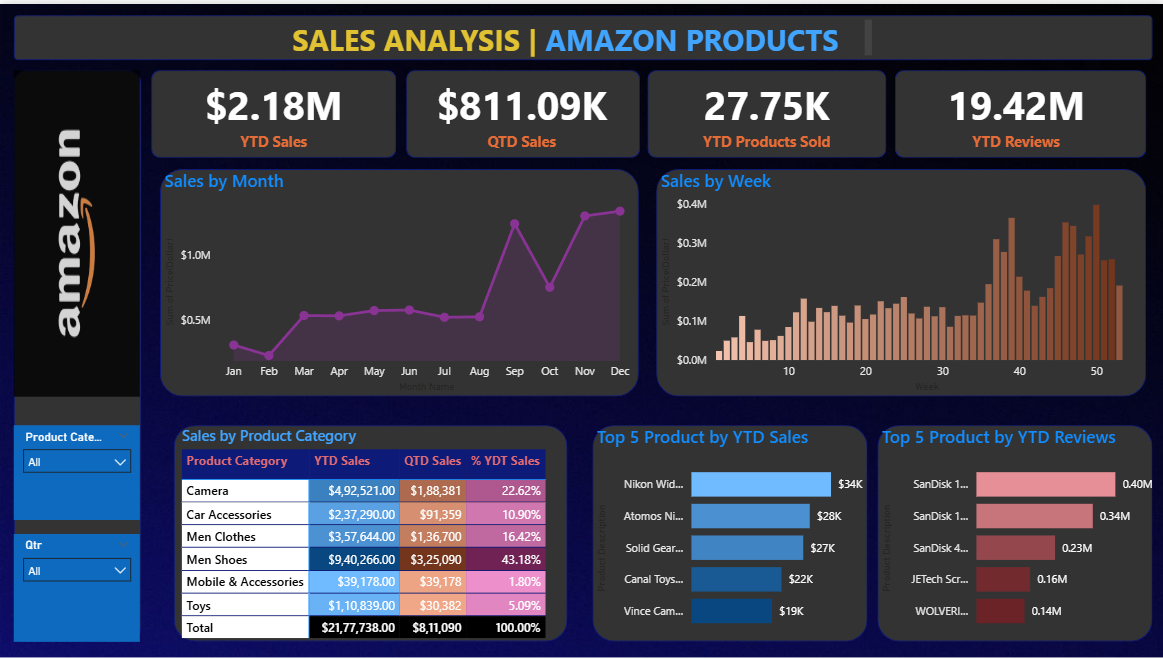

This screenshot's page, from the dashboard's own definition file:
{"tool":"powerbi","page":{"name":"Page 1","canvas":[1280,720],"ordinal":0},"visuals":[{"type":"shape","box":[15.1,72.7,140,627.1],"z":0},{"type":"shape","box":[15.1,12.3,1250.1,49.4],"z":1000},{"type":"textbox","box":[315.6,12.3,646.3,50.8],"z":2000},{"type":"shape","box":[166,72.7,269,96.1],"z":3000},{"type":"shape","box":[446,72.7,256.6,96.1],"z":4000},{"type":"card","fields":{"Values":["Amazon_Data.YDT Sales"]},"box":[166,72.7,269,96.1],"z":5000},{"type":"shape","box":[175.6,181.1,525.6,249.7],"z":6000},{"type":"card","fields":{"Values":["Amazon_Data.QTD Sales"]},"box":[444.6,72.7,256.6,96.1],"z":7000},{"type":"shape","box":[710.8,72.7,262.1,96.1],"z":8000},{"type":"shape","box":[982.5,72.7,275.8,96.1],"z":9000},{"type":"card","fields":{"Values":["Amazon_Data.YTD Products Sold"]},"box":[710.8,72.7,262.1,96.1],"z":10000},{"type":"card","fields":{"Values":["Amazon_Data.YDT Reviews"]},"box":[972.9,72.7,285.4,96.1],"z":11000},{"type":"shape","box":[190.7,462.4,432.2,237.4],"z":12000},{"type":"areaChart","title":"Sales by Month ","fields":{"Category":["Calender Table.Month Name"],"Y":["Sum(Amazon_Data.Price(Dollar))"]},"box":[175.6,181.1,525.6,249.7],"z":13000},{"type":"shape","box":[720.4,181.1,537.9,249.7],"z":14000},{"type":"columnChart","title":"Sales by Week","fields":{"Category":["Calender Table.Week"],"Y":["Sum(Amazon_Data.Price(Dollar))"]},"box":[720.4,181.1,537.9,249.7],"z":15000},{"type":"pivotTable","title":"Sales by Product Category","fields":{"Rows":["Amazon_Data.Product Category"],"Values":["Amazon_Data.YDT Sales1","Amazon_Data.QTD Sales","Amazon_Data.YDT Sales"]},"box":[194.9,462.4,428.1,248.4],"z":16000},{"type":"shape","box":[650.4,462.4,301.9,237.4],"z":17000},{"type":"shape","box":[963.3,462.4,301.9,237.4],"z":18000},{"type":"clusteredBarChart","title":"Top 5 Product by YTD Sales","fields":{"Category":["Amazon_Data.Product Description"],"Y":["Amazon_Data.YDT Sales"]},"box":[650.4,462.4,312.9,237.4],"z":19000},{"type":"clusteredBarChart","title":"Top 5 Product by YTD Reviews","fields":{"Category":["Amazon_Data.Product Description"],"Y":["Amazon_Data.YDT Reviews"]},"box":[963.3,462.4,312.9,237.4],"z":20000},{"type":"slicer","fields":{"Values":["Amazon_Data.Product Category"]},"box":[15.1,462.4,138.6,104.3],"z":21000},{"type":"slicer","fields":{"Values":["Calender Table.Qtr"]},"box":[15.1,581.8,138.6,118],"z":22000},{"type":"image","box":[15.1,72.7,138.6,358.1],"z":23000}]}

Visuals, with their boxes in screenshot pixels (x1, y1, x2, y2), scaled from the page's 1280x720 canvas onto the 1163x659 screenshot:
shape: region(14, 67, 141, 641)
shape: region(14, 11, 1150, 56)
textbox: region(287, 11, 874, 58)
shape: region(151, 67, 395, 154)
shape: region(405, 67, 638, 154)
card - Amazon_Data.YDT Sales: region(151, 67, 395, 154)
shape: region(160, 166, 637, 394)
card - Amazon_Data.QTD Sales: region(404, 67, 637, 154)
shape: region(646, 67, 884, 154)
shape: region(893, 67, 1143, 154)
card - Amazon_Data.YTD Products Sold: region(646, 67, 884, 154)
card - Amazon_Data.YDT Reviews: region(884, 67, 1143, 154)
shape: region(173, 423, 566, 641)
"Sales by Month " areaChart: region(160, 166, 637, 394)
shape: region(655, 166, 1143, 394)
"Sales by Week" columnChart: region(655, 166, 1143, 394)
"Sales by Product Category" pivotTable: region(177, 423, 566, 651)
shape: region(591, 423, 865, 641)
shape: region(875, 423, 1150, 641)
"Top 5 Product by YTD Sales" clusteredBarChart: region(591, 423, 875, 641)
"Top 5 Product by YTD Reviews" clusteredBarChart: region(875, 423, 1160, 641)
slicer - Amazon_Data.Product Category: region(14, 423, 140, 519)
slicer - Calender Table.Qtr: region(14, 533, 140, 641)
image: region(14, 67, 140, 394)
